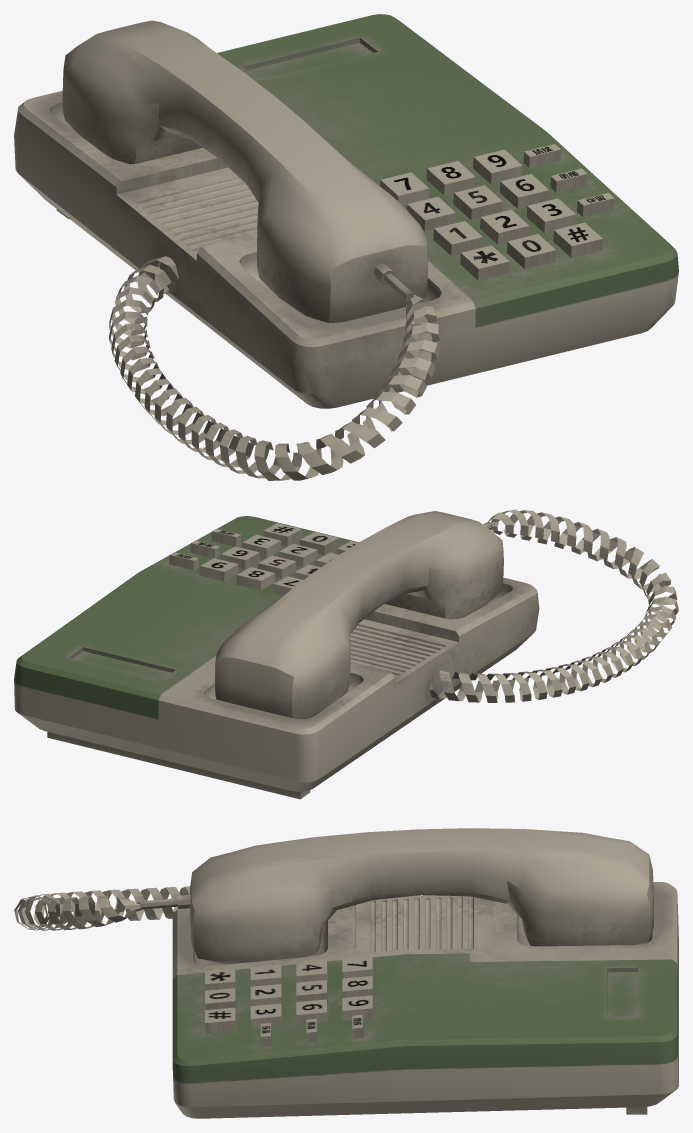
The model's file is Telephone.fbx.
The picture shows the model from 3 angles, top to bottom: view 1: azimuth 30°, elevation 25°; view 2: azimuth 150°, elevation 25°; view 3: azimuth 270°, elevation 25°; orthographic projection. The views are drawn at different scales.
Parts seen in each view (by area): view 1: Plane.002; view 2: Plane.002; view 3: Plane.002.
Boxes of the visible parts, box(x1,y1,x2,y2) form: Plane.002: box(14, 14, 678, 480); Plane.002: box(14, 509, 678, 799); Plane.002: box(14, 828, 678, 1118).
Size of the model in its own units: 21.51 by 7.79 by 28.27.
1 material, 1 textured.
